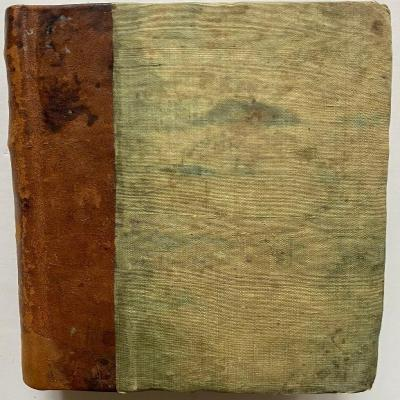rare_books: (8, 0, 380, 399)
